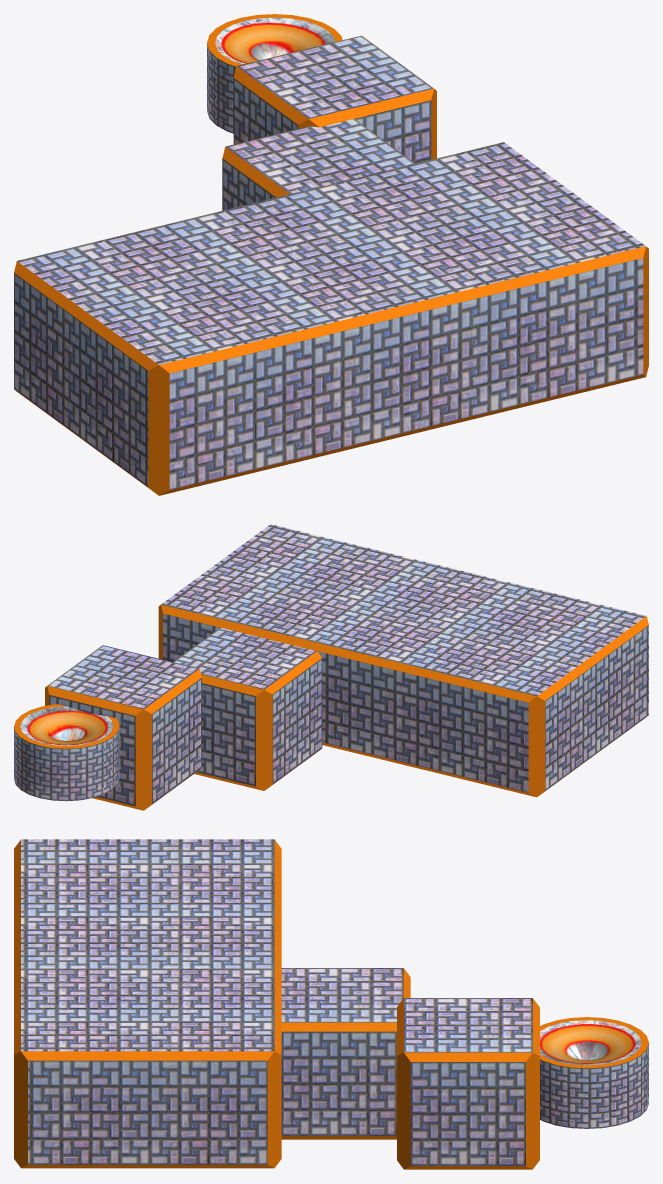
File: Level02.fbx
3 renders of one model, top to bottom at view 1: azimuth 30°, elevation 25°; view 2: azimuth 150°, elevation 25°; view 3: azimuth 270°, elevation 25°, orthographic. The views are drawn at different scales.
Visible parts, largest first — view 1: Level02, Level02:Target; view 2: Level02, Level02:Target; view 3: Level02, Level02:Target.
Part boxes in pixels (box(x1,y1,x2,y2)): Level02: box(14, 14, 648, 495); Level02:Target: box(215, 17, 334, 64); Level02: box(14, 524, 648, 810); Level02:Target: box(20, 706, 113, 745); Level02: box(14, 839, 648, 1169); Level02:Target: box(540, 1020, 641, 1065).
Bounding box in the file's own units: 12.05 × 3.16 × 14.76.
Materials: 5 (4 with a texture image).
